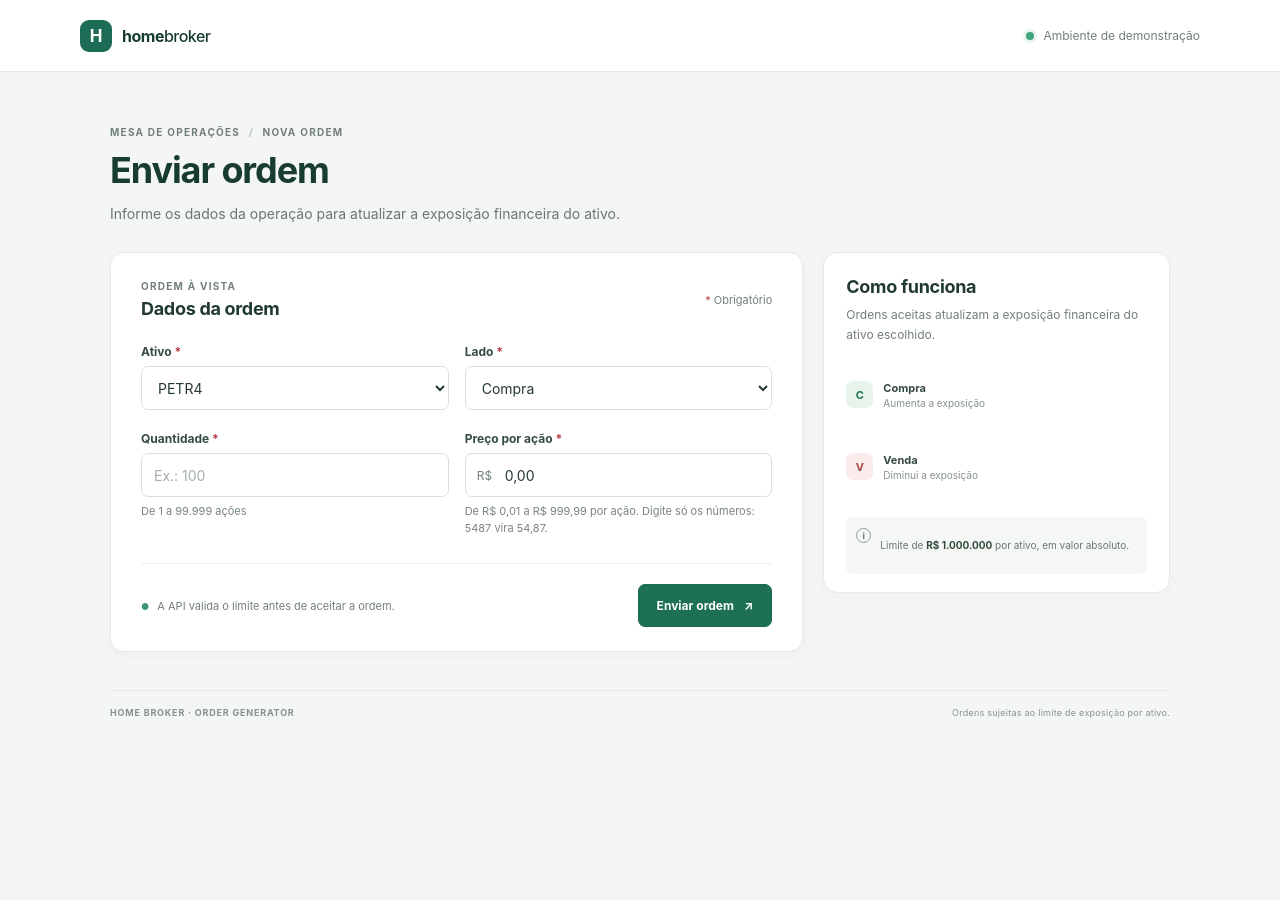
OrderGenerator form › sends Compra (C) with numeric fields from price 5487
Select "VALE3" in the dropdown labelled "Ativo": {"x": 295, "y": 388} [141,366,449,410]
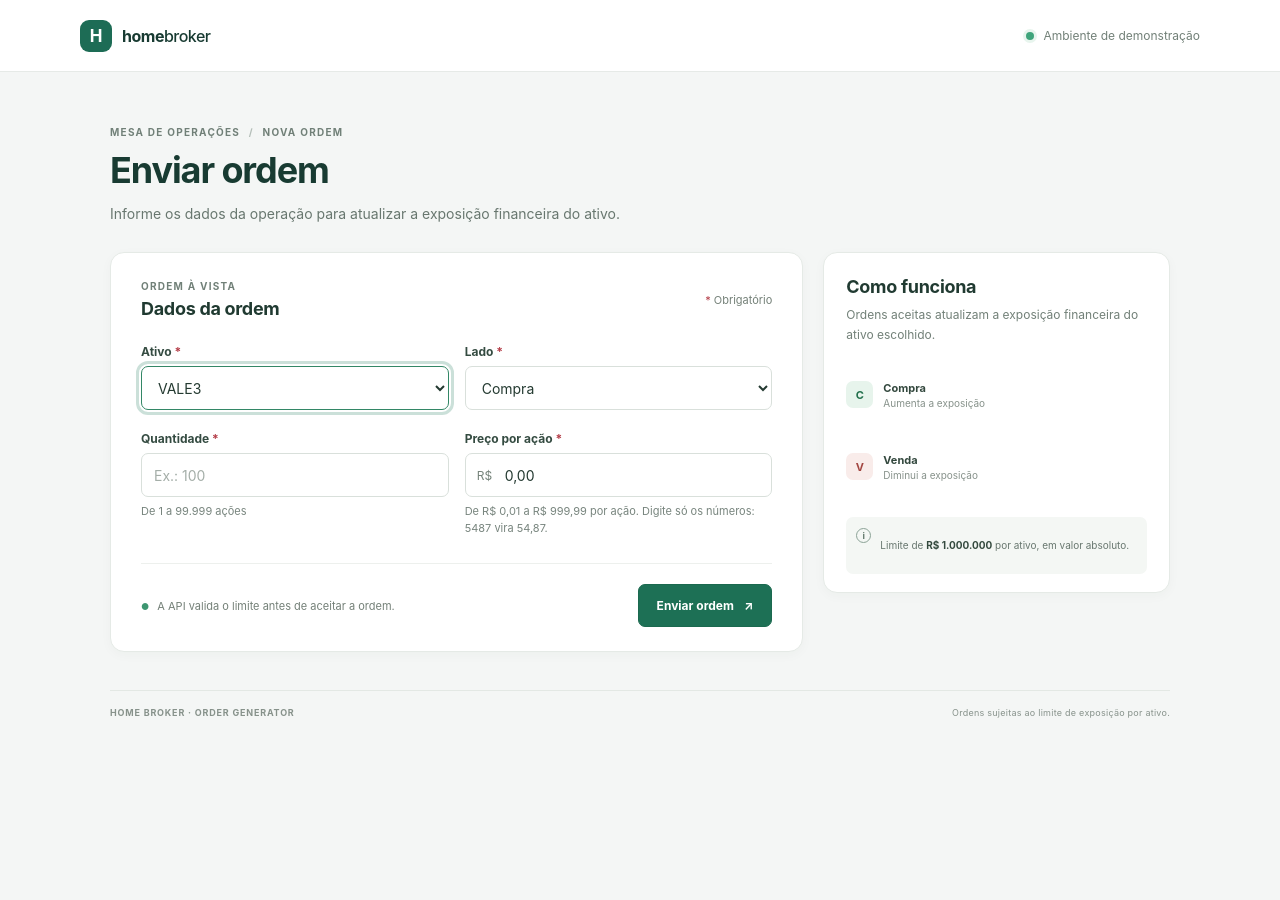
Select "Compra" in the dropdown labelled "Lado": {"x": 619, "y": 388} [465,366,772,410]
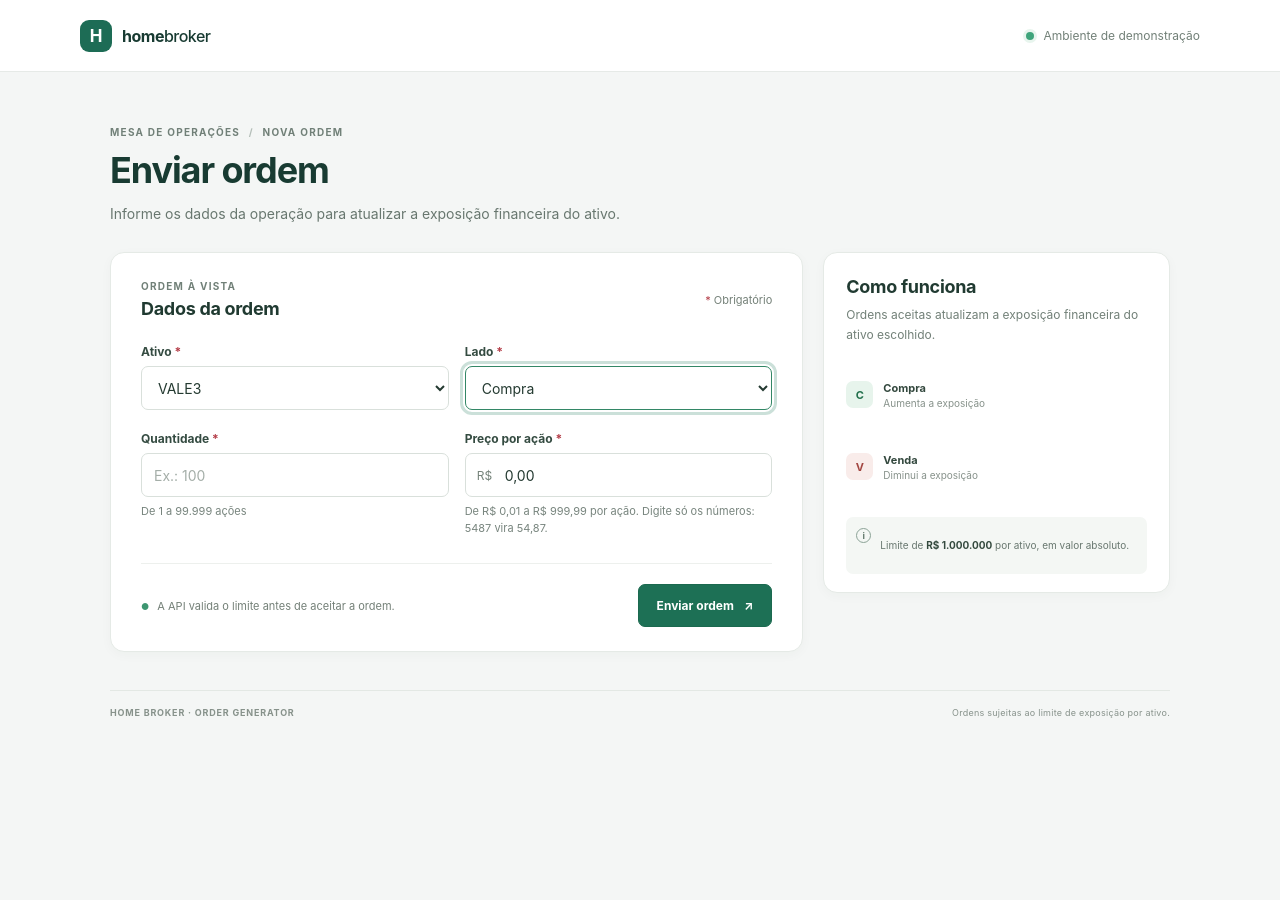
In the field labelled "Quantidade": {"x": 295, "y": 475} [141,453,449,497], type "584"
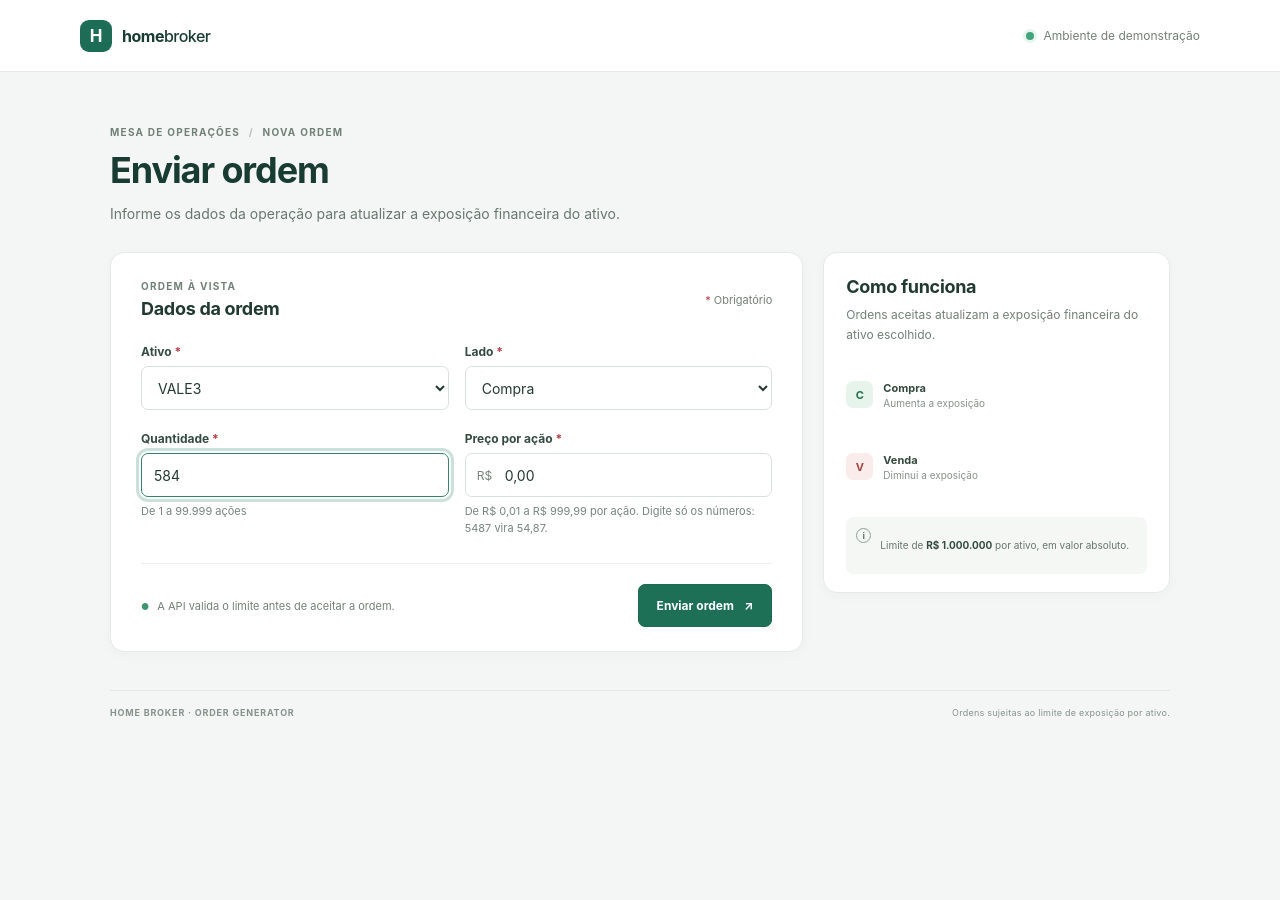
In the field labelled "Preço por ação": {"x": 619, "y": 475} [465,453,772,497], type "5487"
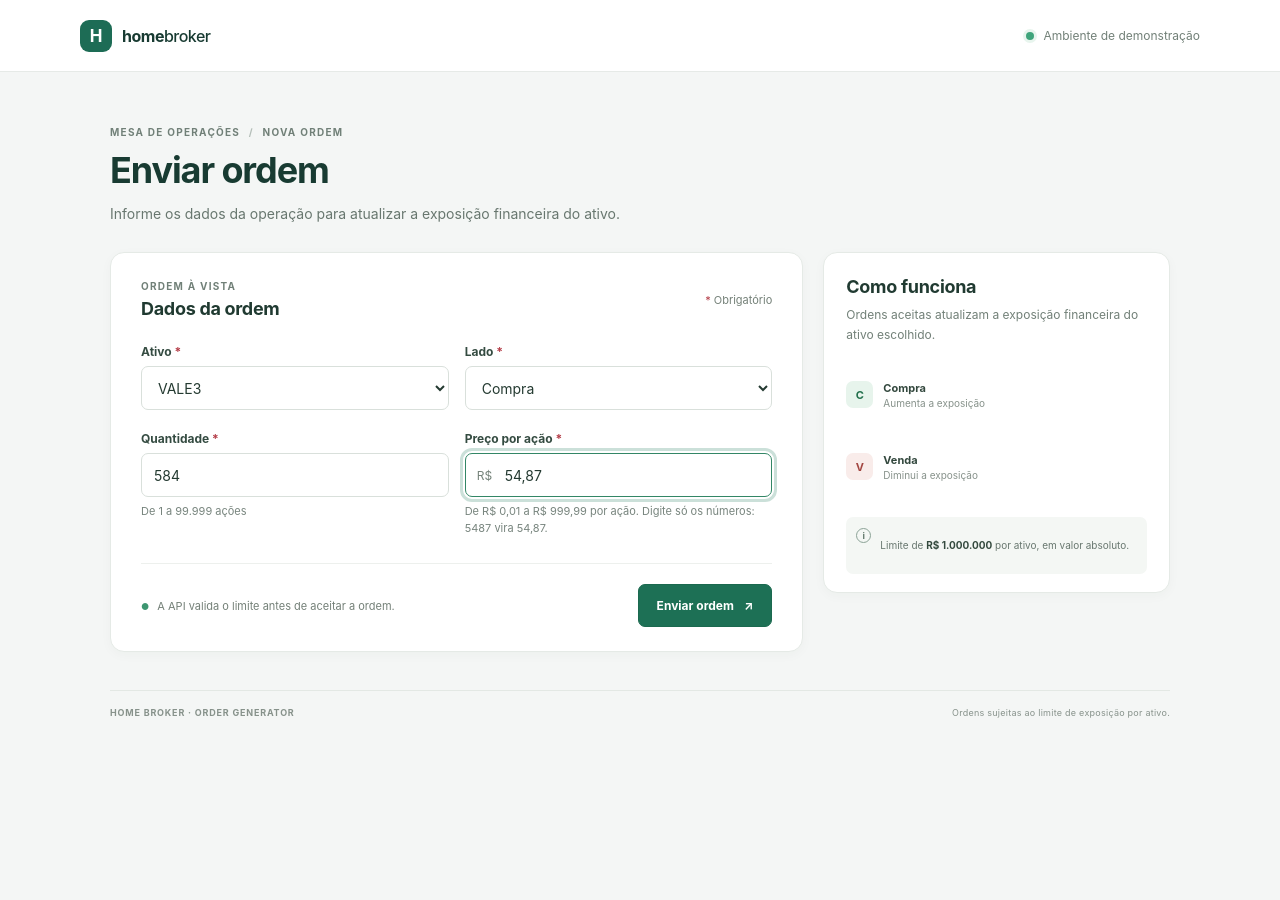
Click the button "Enviar ordem ↗": {"x": 705, "y": 606} [638,584,772,627]
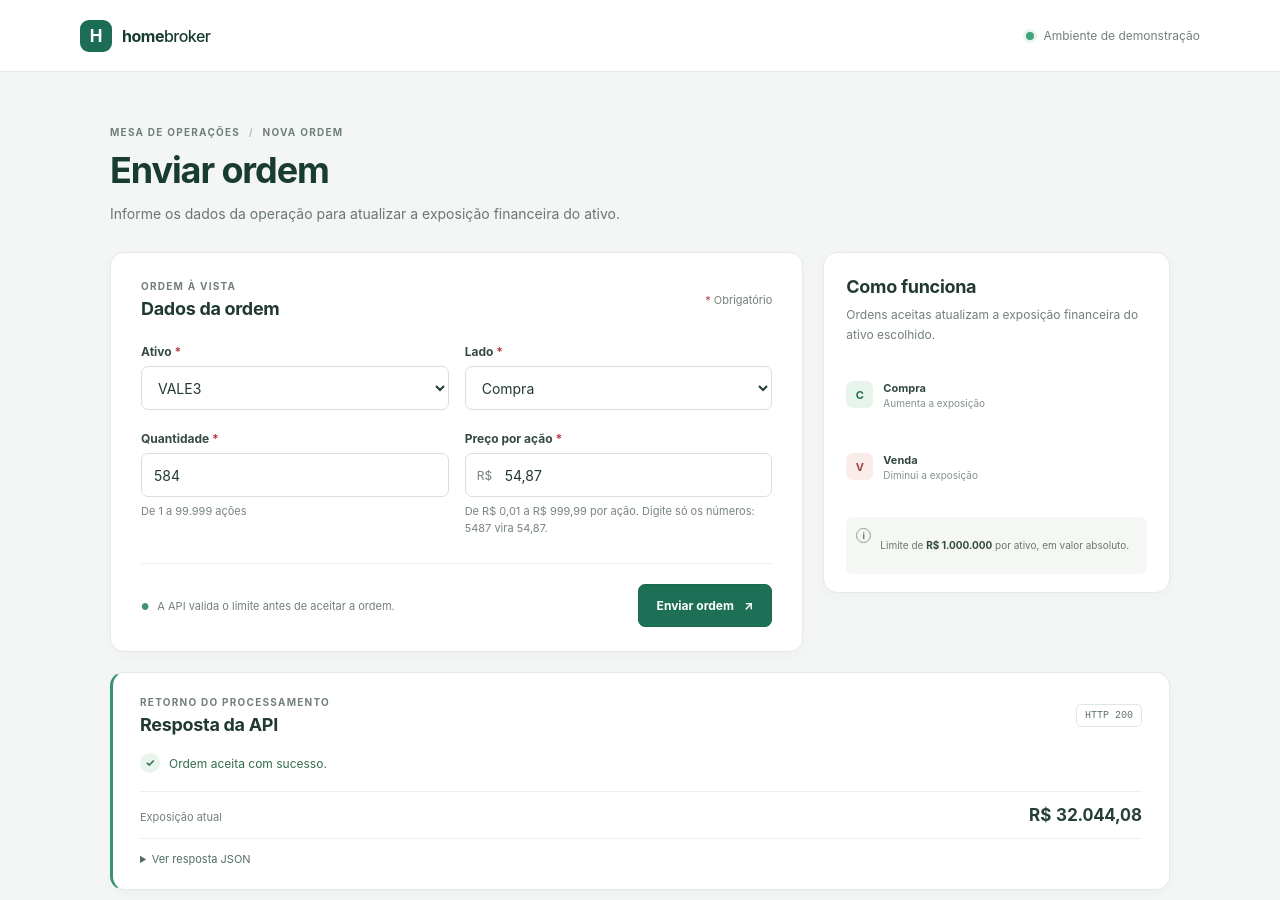
Now the heading "Resposta da API" is shown, box [140,714,278,735]
Now the text "R$ 32.044,08" is shown, box [1029,805,1142,825]
Now the text "HTTP 200" is shown, box [1076,704,1142,727]
